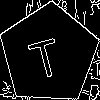T: (24, 29, 64, 81)
